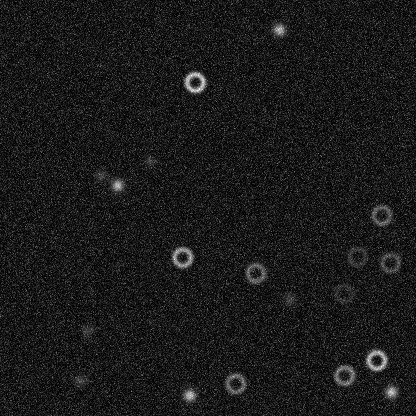Ring: (331, 281, 355, 305), (364, 348, 388, 372), (170, 245, 194, 269), (223, 371, 247, 395), (345, 244, 369, 268), (378, 250, 402, 274), (332, 363, 356, 387), (369, 203, 393, 227), (243, 260, 267, 284), (182, 70, 206, 94)
Spot: (72, 372, 88, 388), (141, 152, 157, 168), (109, 177, 125, 193), (92, 167, 108, 183), (78, 322, 94, 338), (271, 21, 287, 37), (181, 387, 197, 403), (282, 290, 298, 306), (383, 383, 399, 399)
